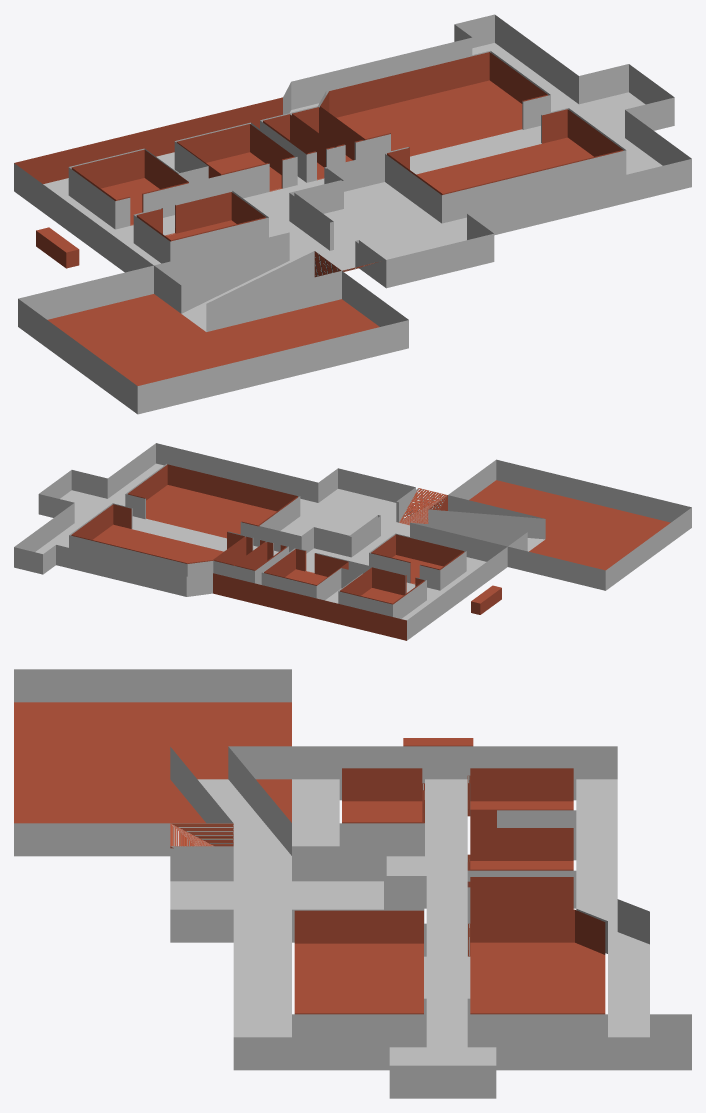
The model's file is scghool_intergriordg (2).fbx.
3 views of the same model, one above another, from view 1: azimuth 30°, elevation 25°; view 2: azimuth 150°, elevation 25°; view 3: azimuth 270°, elevation 25° (orthographic). The views are drawn at different scales.
Parts seen in each view (by area): view 1: floor, floor.001; view 2: floor, floor.001; view 3: floor.
Part boxes in pixels (box(x1,y1,x2,y2)): floor: box(14, 14, 691, 414); floor.001: box(36, 227, 79, 268); floor: box(14, 443, 691, 640); floor.001: box(471, 585, 501, 614); floor: box(14, 669, 691, 1098).
Size of the model in its own units: 16260 by 631 by 11755.
